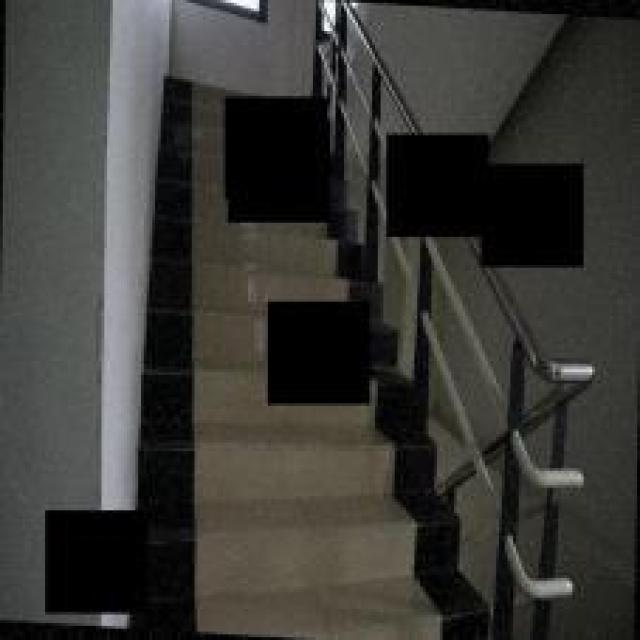upstair: (162, 433, 494, 639)
